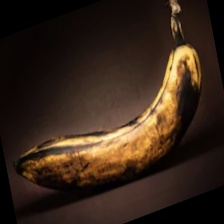banana: (9, 29, 178, 178)
